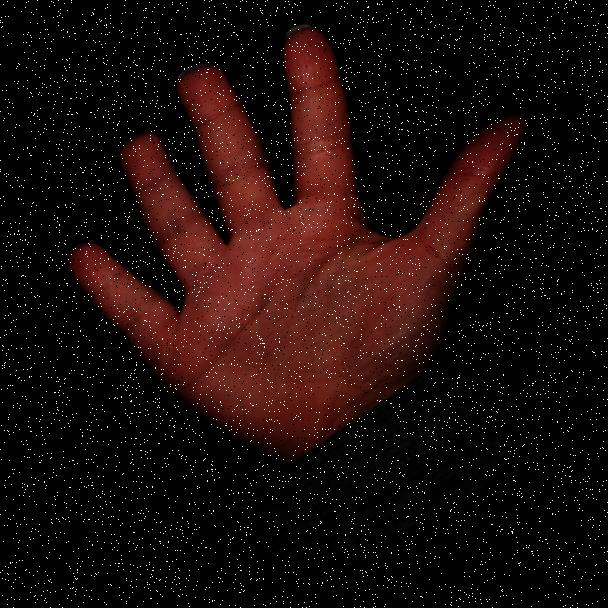five: (14, 0, 579, 534)
